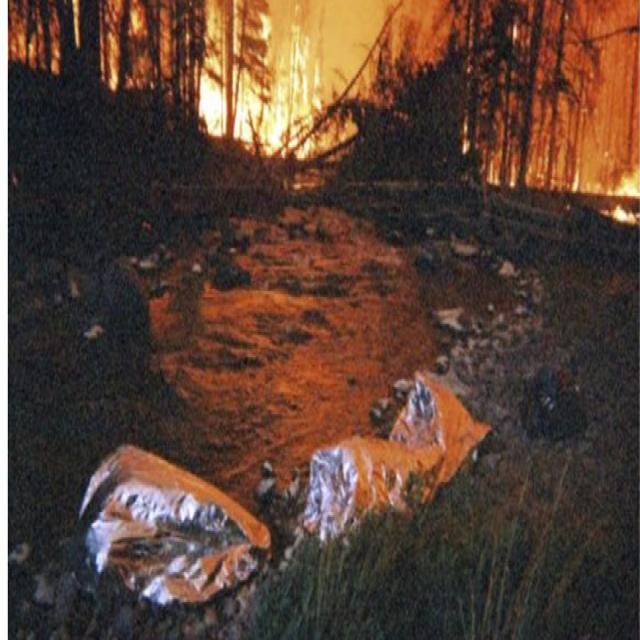Fire: (195, 0, 326, 155), (604, 167, 640, 222)
Smoke: (528, 0, 640, 188), (278, 0, 471, 97)
